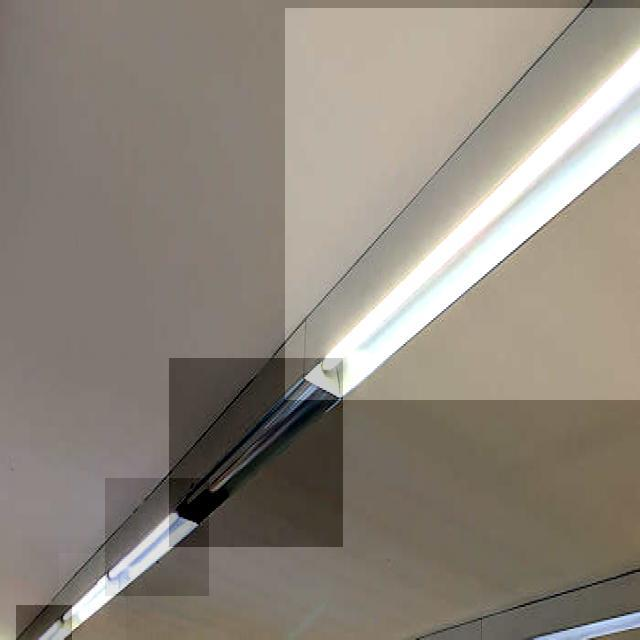Straight-Tube-Fluorescent-Lamp: (288, 11, 640, 402), (165, 360, 338, 546), (106, 486, 182, 590), (62, 573, 112, 629)
